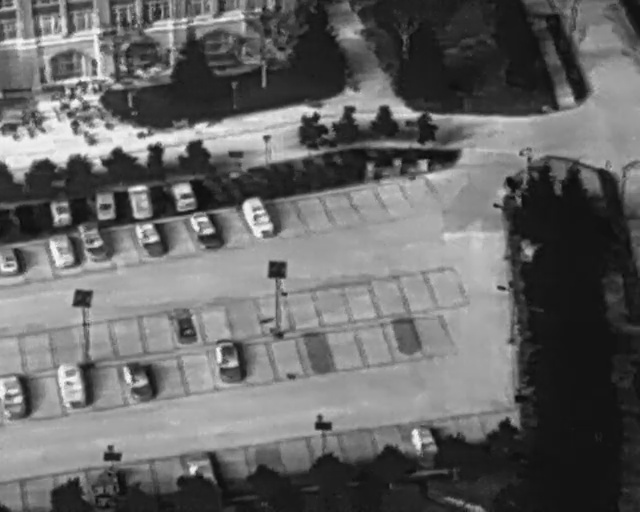Car: (238, 192, 279, 244), (117, 356, 155, 408), (52, 359, 88, 413), (76, 218, 112, 267), (186, 207, 223, 253), (213, 334, 245, 385), (165, 303, 198, 348), (45, 230, 79, 271), (406, 422, 440, 459), (1, 373, 27, 419), (136, 222, 165, 259), (125, 181, 152, 220), (169, 180, 197, 212), (49, 196, 73, 228), (95, 190, 117, 221), (0, 245, 19, 275)
